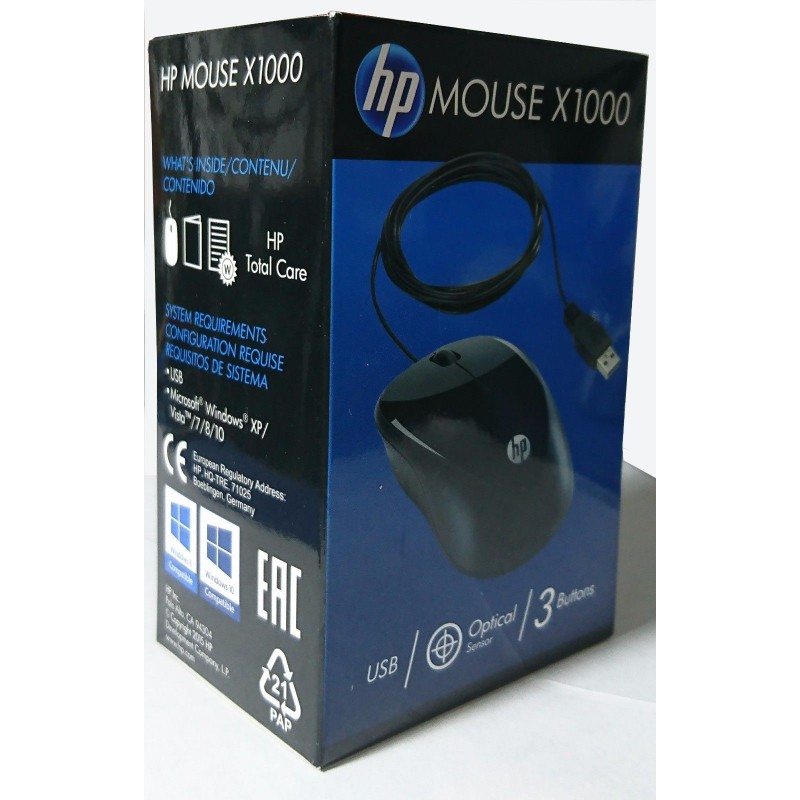hp-mouse-X1000: (361, 157, 636, 585)
